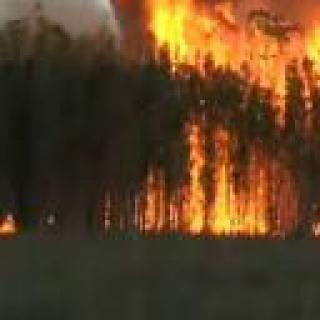fire: (114, 0, 320, 234), (0, 212, 25, 235)
